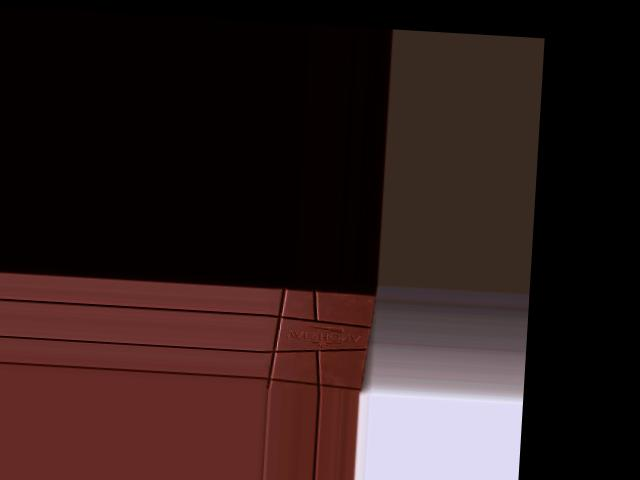chocolate: (261, 282, 378, 394)
